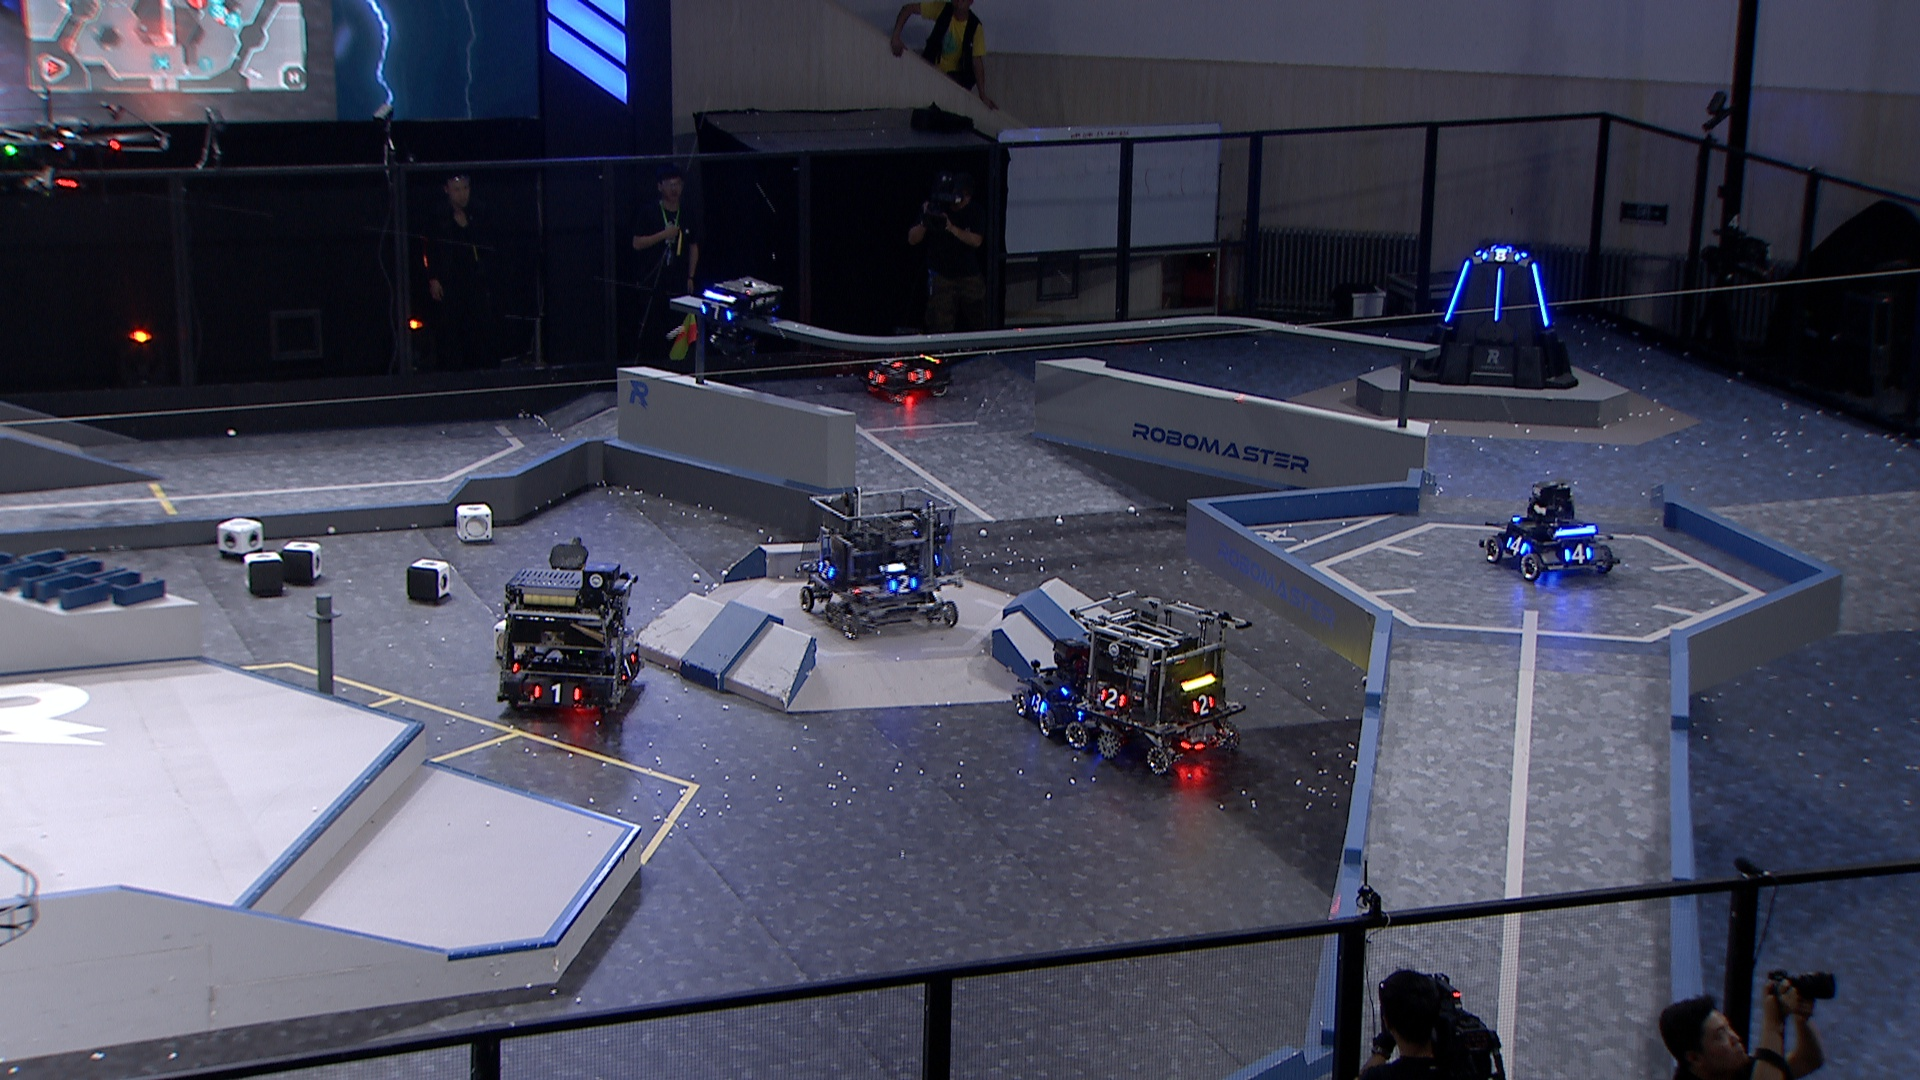armor: (1441, 258, 1474, 324), (1528, 261, 1555, 328), (529, 683, 582, 705), (1480, 245, 1524, 266), (699, 301, 735, 324), (1491, 266, 1506, 324), (887, 572, 920, 597), (1560, 542, 1594, 564), (1097, 687, 1127, 711), (1189, 694, 1216, 717), (617, 654, 640, 680), (1506, 531, 1528, 556), (906, 367, 934, 386), (878, 353, 906, 371), (864, 365, 884, 389), (1029, 692, 1048, 716), (818, 559, 835, 582)
base: (1404, 239, 1584, 394)
car: (1065, 583, 1250, 774), (491, 551, 651, 721), (799, 481, 965, 638), (1481, 475, 1622, 584), (1013, 636, 1120, 741), (860, 330, 955, 404)
watcher: (694, 273, 783, 371)
